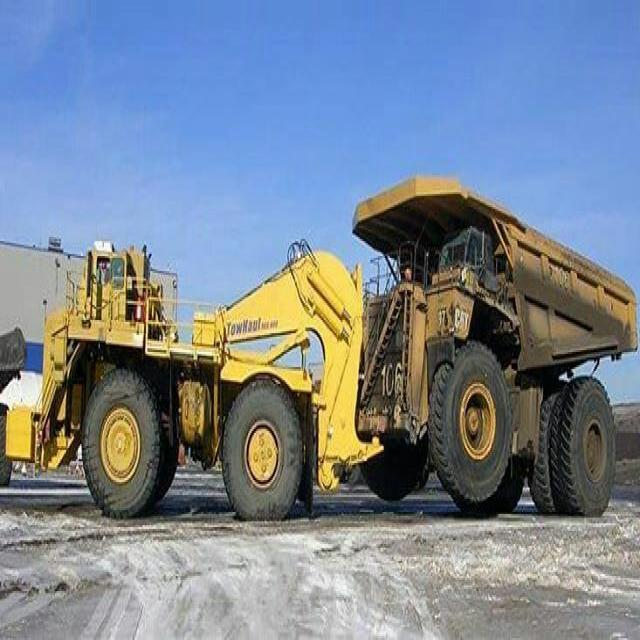dump_truck: (346, 160, 639, 520)
